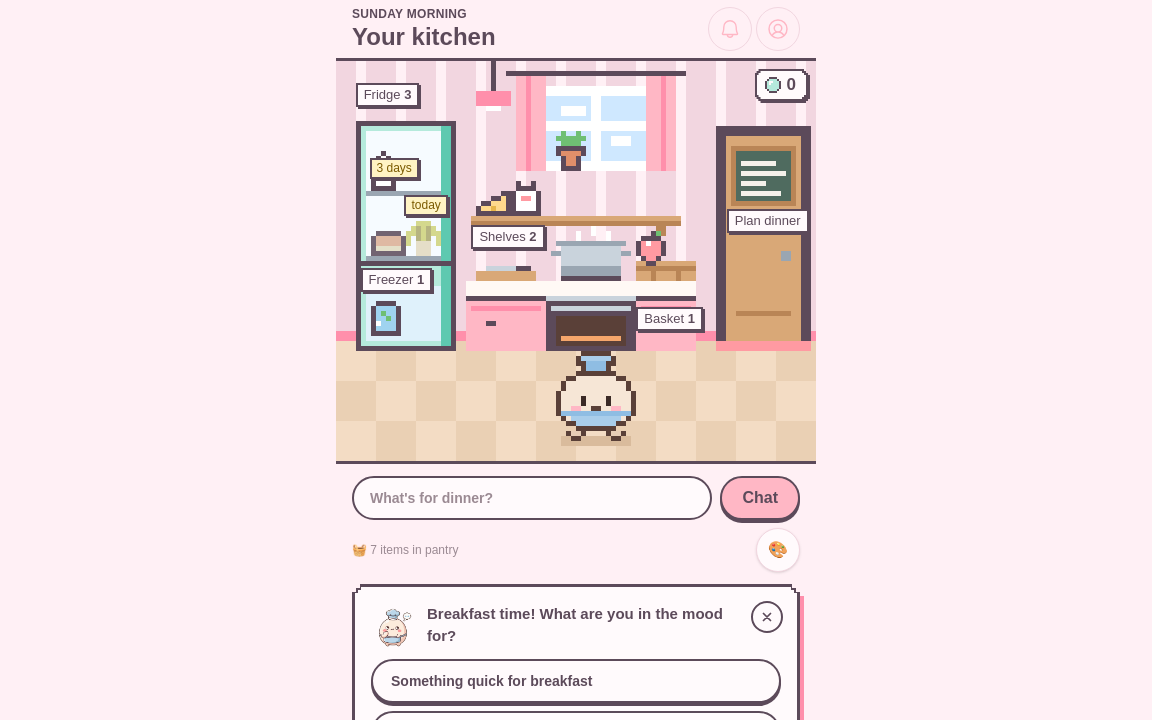
opening a place › closes with the close button
Click the button with aria-label "Fridge, 3 items": (406, 174) [356,83,456,266]
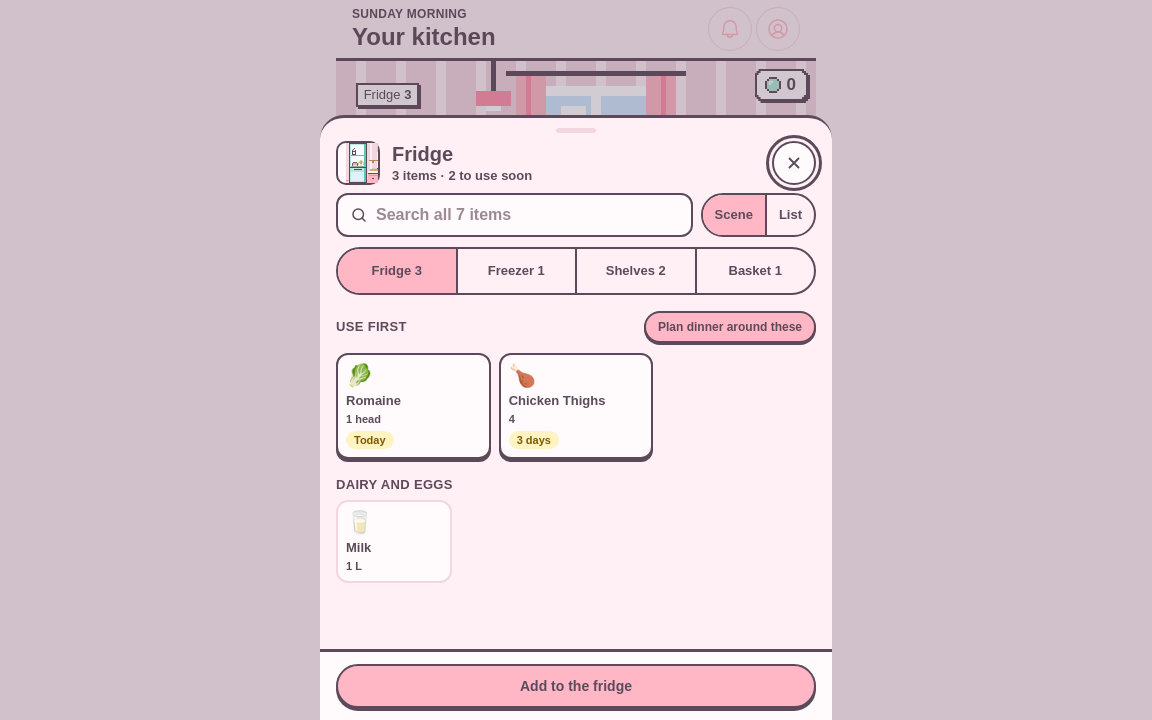
Click the button named "Close": (794, 163) [772,141,816,185]
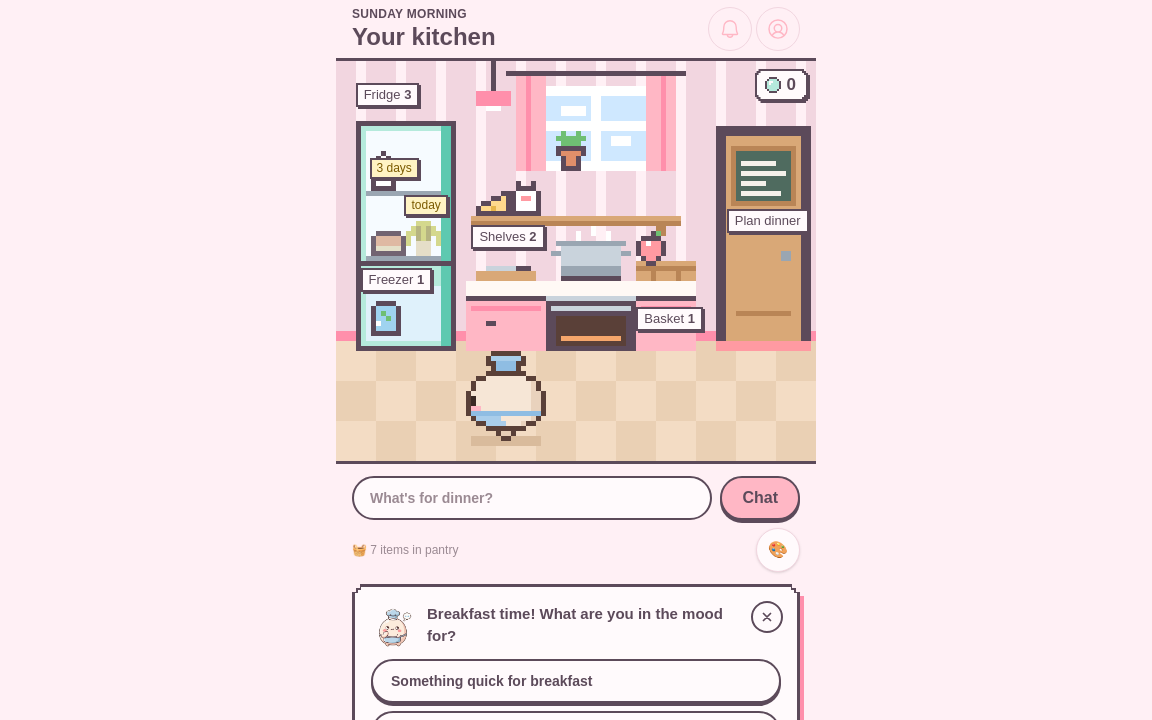
Expected: the dialog with test id "storage-sheet" is gone
